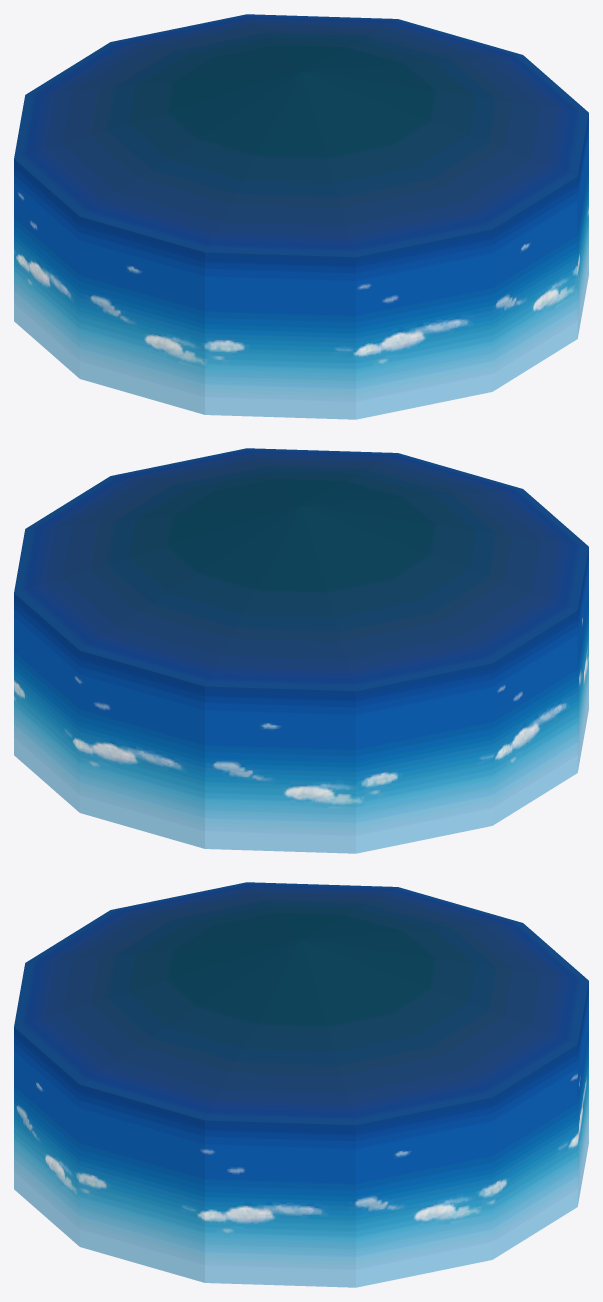
The model's file is mini_block_64_V.glb.
3 views of the same model, one above another, from view 1: azimuth 30°, elevation 25°; view 2: azimuth 150°, elevation 25°; view 3: azimuth 270°, elevation 25° (orthographic).
Visible parts, largest first — view 1: mini_block_64_V; view 2: mini_block_64_V; view 3: mini_block_64_V.
Boxes of the visible parts, x1,y1,x2,y2 form: mini_block_64_V: [14, 14, 588, 419]; mini_block_64_V: [14, 448, 588, 853]; mini_block_64_V: [14, 882, 588, 1287].
Size of the model in its own units: 511 by 291 by 511.
1 material, 1 textured.
